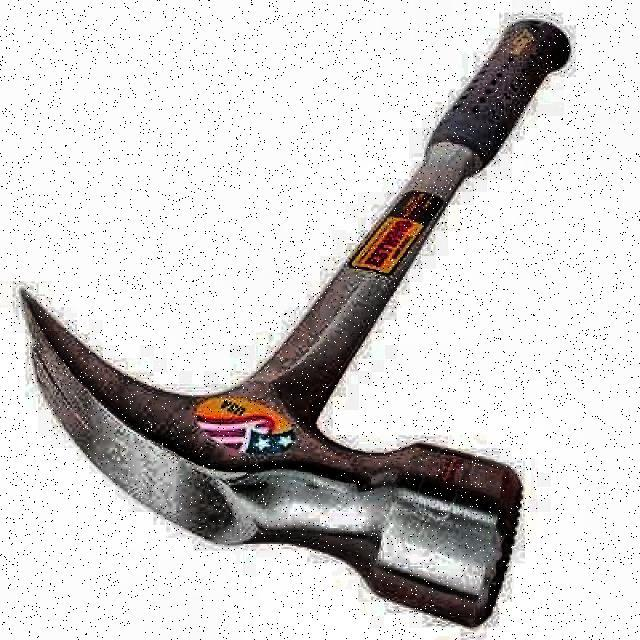hammer: (20, 17, 581, 629)
